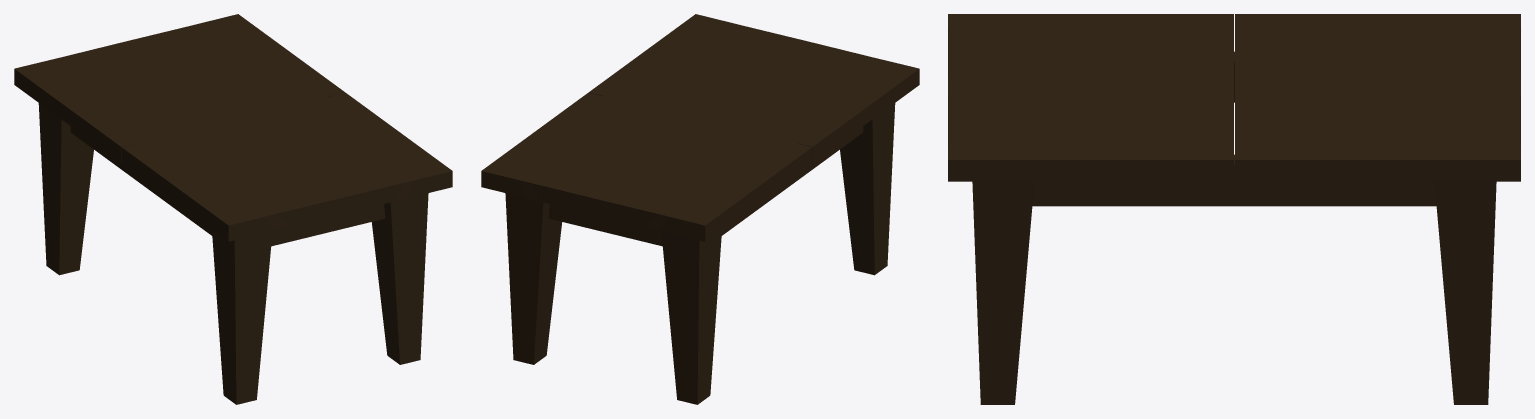
The model's file is table2.0.fbx.
3 views of the same model, side by side, from view 1: azimuth 30°, elevation 25°; view 2: azimuth 150°, elevation 25°; view 3: azimuth 270°, elevation 25° (orthographic). The views are drawn at different scales.
Parts seen in each view (by area): view 1: Cube; view 2: Cube; view 3: Cube.
Part boxes in pixels (bbox=[...]): Cube: bbox=[14, 14, 452, 404]; Cube: bbox=[481, 14, 919, 404]; Cube: bbox=[948, 14, 1520, 404].
Bounding box in the file's own units: 376 × 309 × 623.
